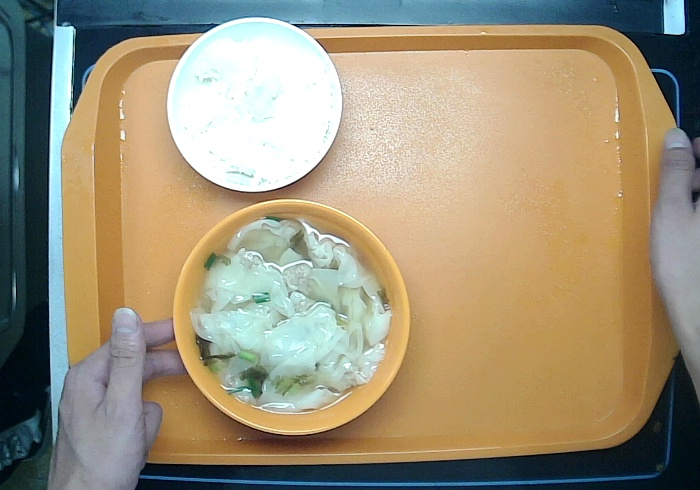NLDX-Fan_Wan: (162, 13, 347, 198)
NLDX-Hun_Tun_Wan: (170, 198, 411, 439)
